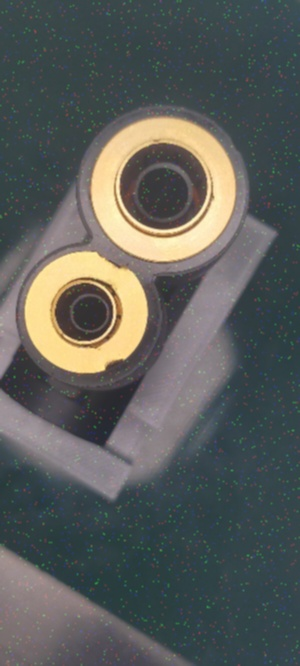bump: (98, 354, 135, 375), (92, 252, 127, 274)
